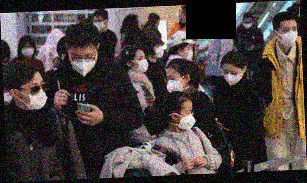with_mask: (25, 78, 49, 112), (71, 52, 99, 76), (278, 24, 300, 48), (177, 108, 196, 131), (166, 73, 185, 94), (222, 68, 243, 86), (133, 54, 150, 72), (21, 43, 36, 58), (92, 17, 106, 32), (184, 43, 195, 61), (154, 43, 166, 59), (176, 8, 185, 21), (242, 20, 255, 29), (138, 20, 145, 31)
